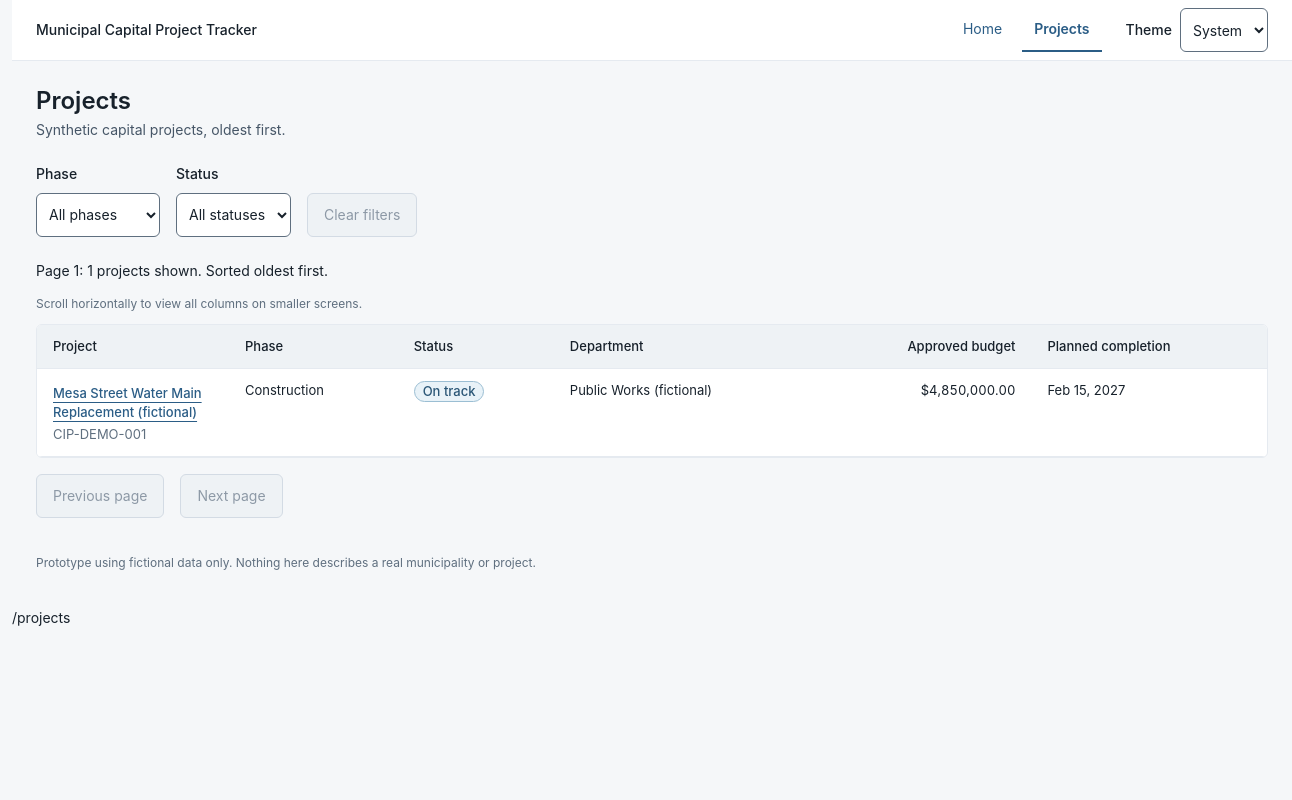
Scenario: ProjectsPage › distinguishes filtered-empty results and clears all filters
expect the table is shown: met, box 37,326 -> 1267,457
expect the button "Clear filters" is disabled: met, box 307,193 -> 417,237
Select "Delayed" in the dropdown labelled "Status": x=234, y=215 176,193 -> 291,237
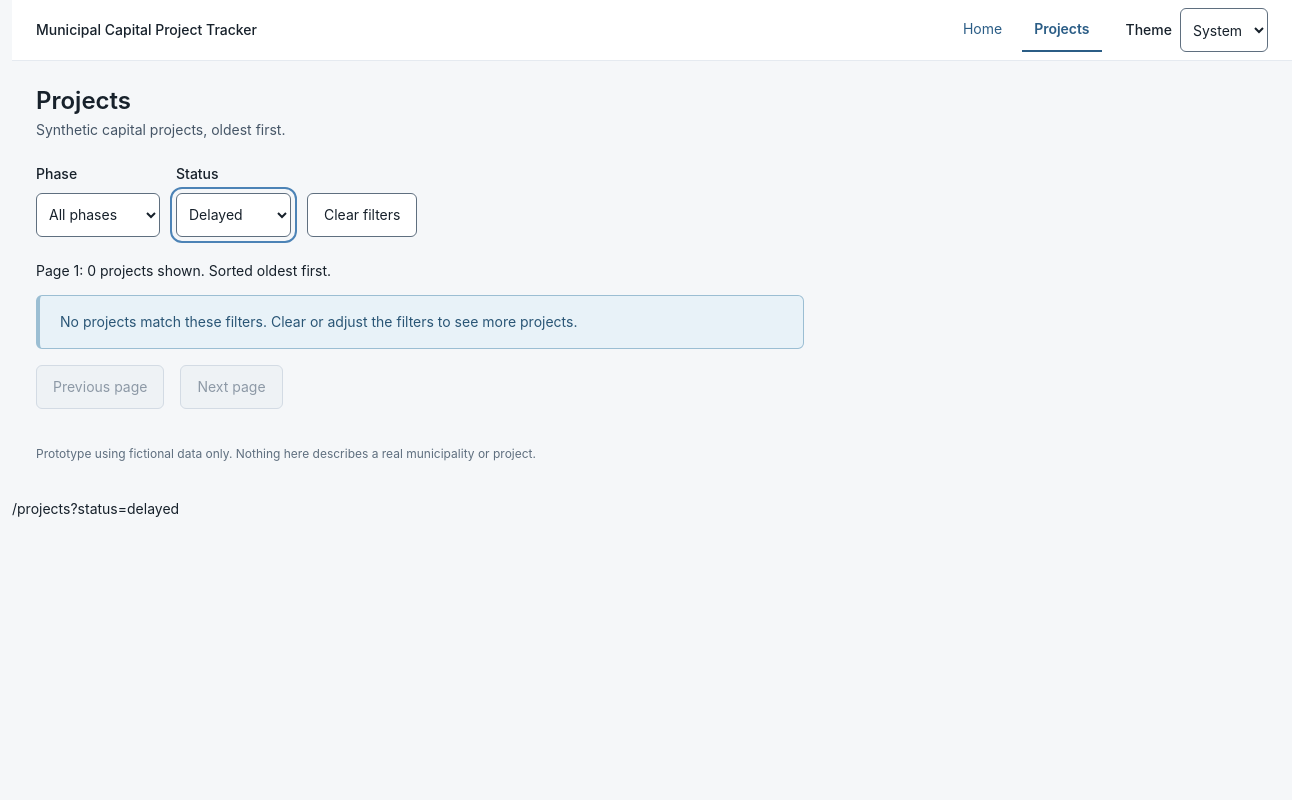
expect the text "No projects match these filters" is shown: met, box 60,313 -> 578,330
Click the button "Clear filters": x=362, y=215 307,193 -> 417,237
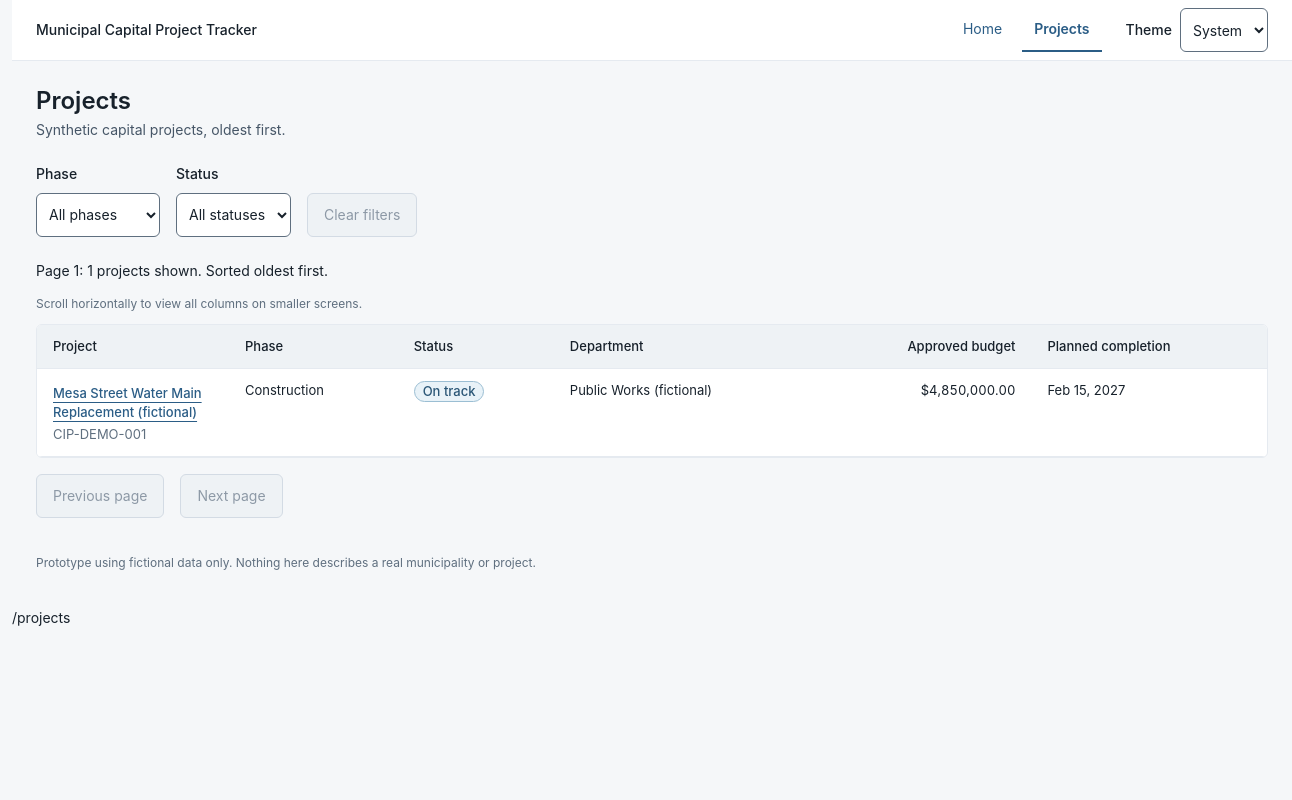
expect the table is shown: met, box 37,326 -> 1267,457
